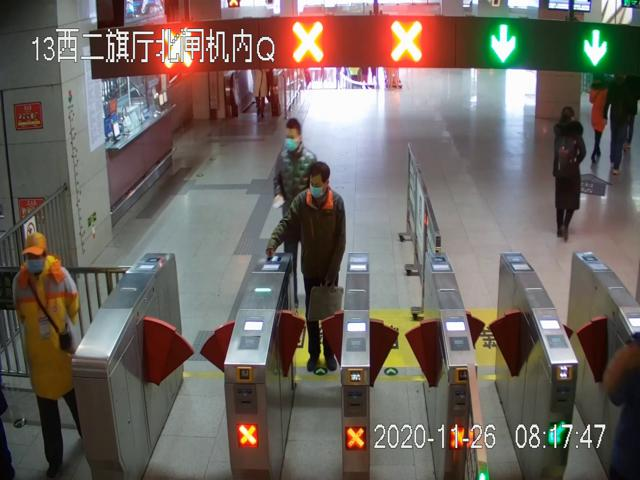person: (13, 232, 80, 479), (268, 161, 346, 372), (273, 118, 316, 308), (553, 107, 587, 240)
